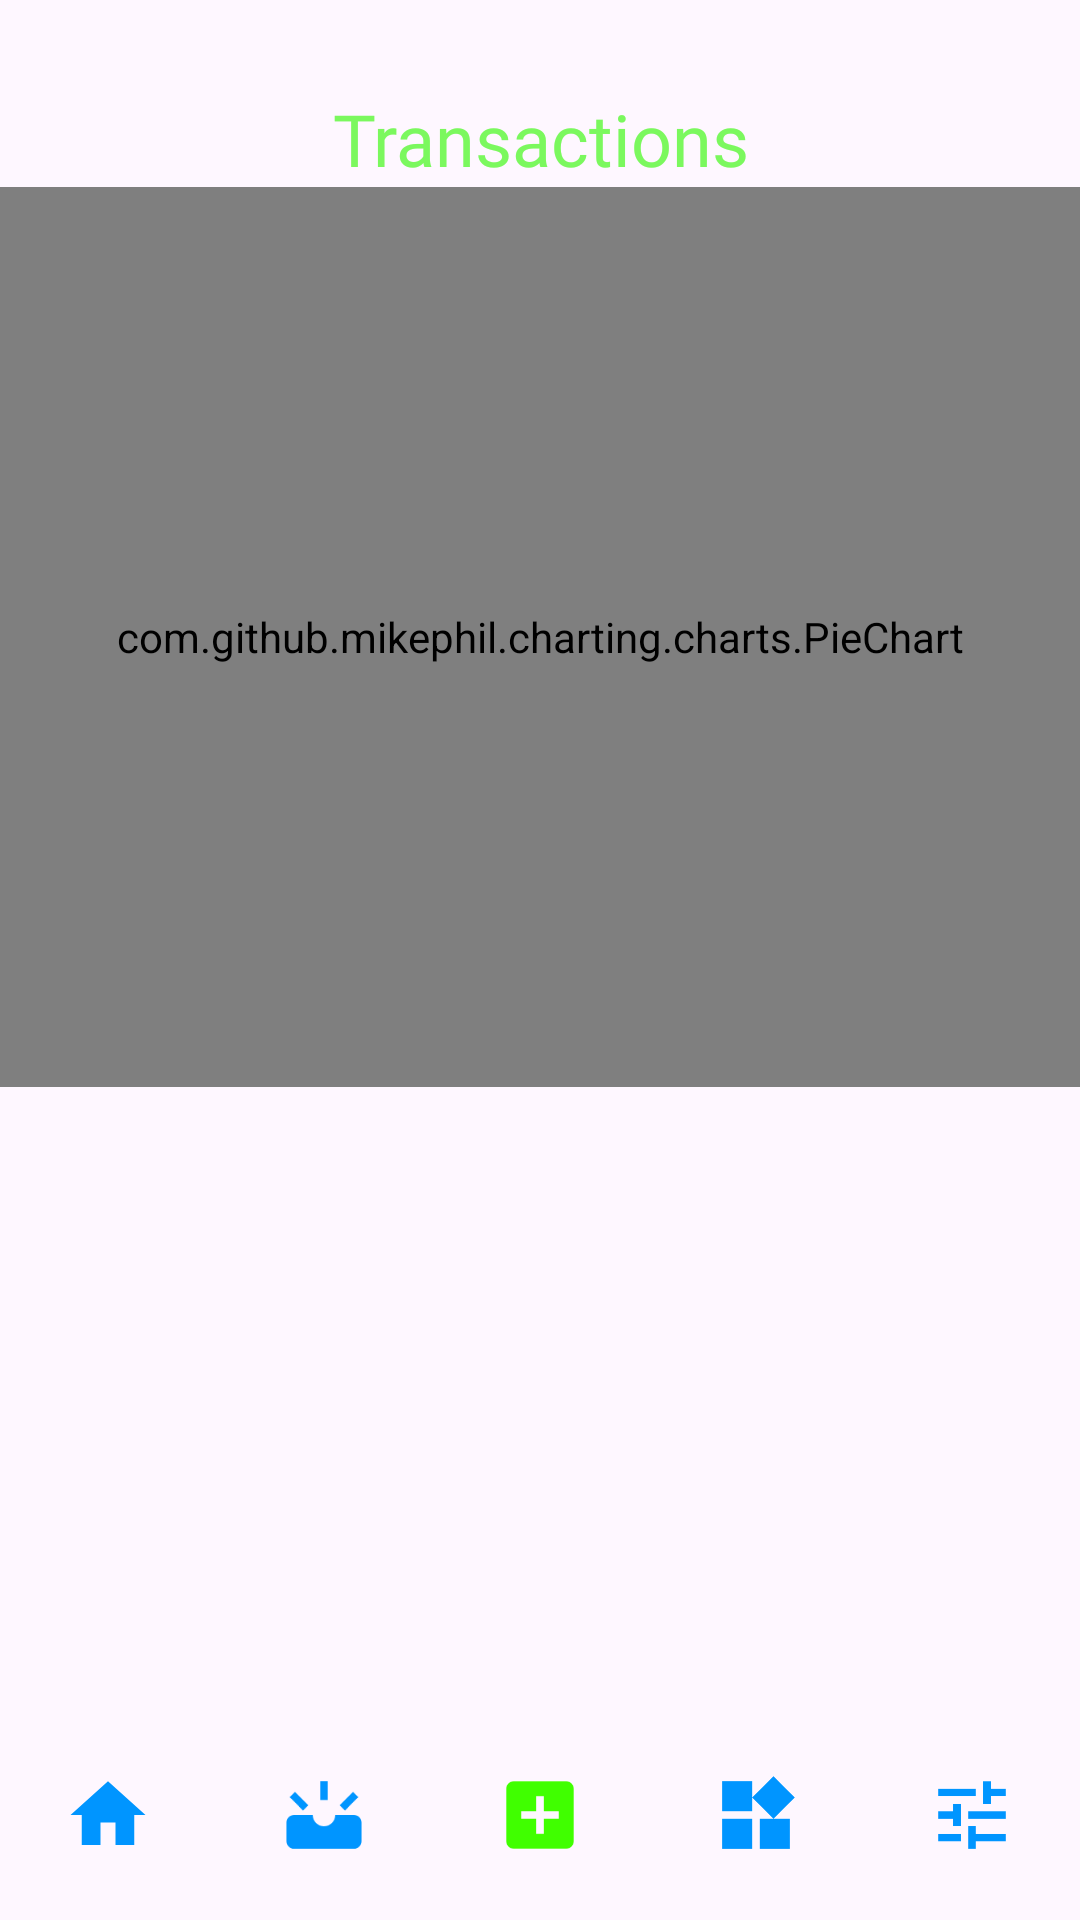

Point at icon controls on the screen. Image size 1080x1920, points as (x=x, y=y).
add box: (x=540, y=1815)
home: (x=108, y=1813)
tune: (x=972, y=1815)
upcoming: (x=324, y=1815)
widgets: (x=758, y=1812)
